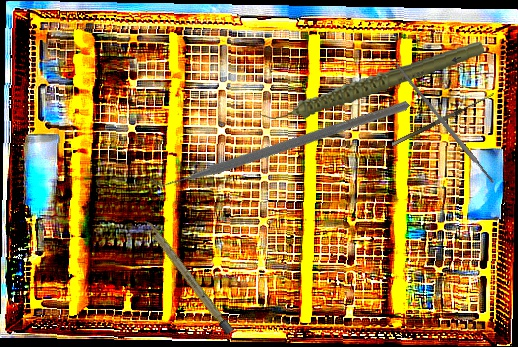Chopper: (142, 2, 411, 278)
Handpiece: (255, 40, 489, 123)
Hook Surgical: (388, 87, 496, 147)
Scalpel Handle: (393, 61, 495, 185), (142, 217, 234, 336)
